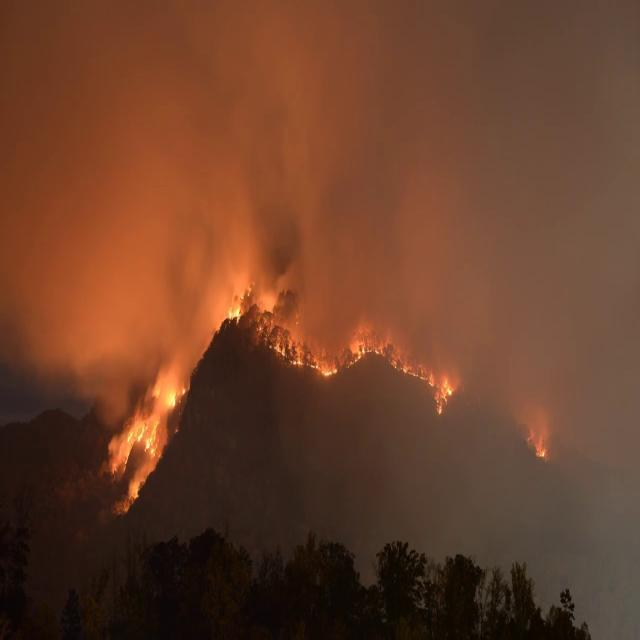Fire: (270, 340, 338, 378), (391, 356, 435, 388), (342, 338, 386, 368), (228, 276, 254, 326), (435, 378, 453, 414), (168, 384, 190, 410), (536, 441, 547, 462)
Smoke: (128, 458, 159, 499), (106, 434, 125, 474), (144, 418, 160, 454), (137, 424, 148, 446), (125, 428, 134, 445)
